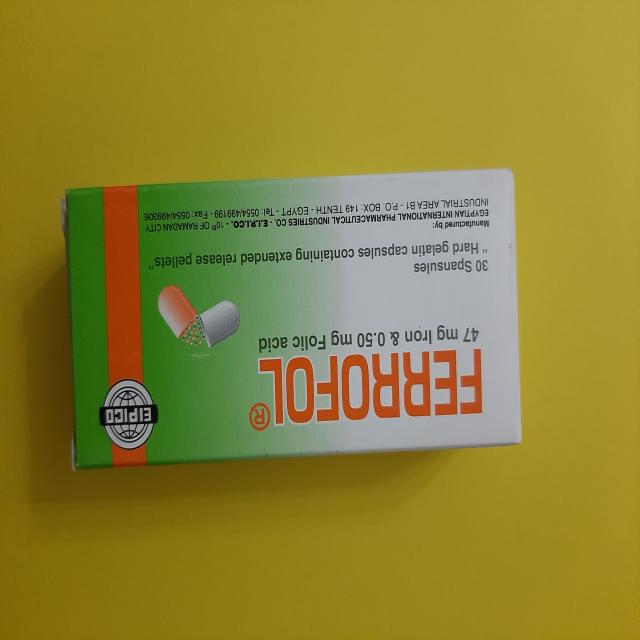medicine_packaging: (56, 162, 534, 486)
